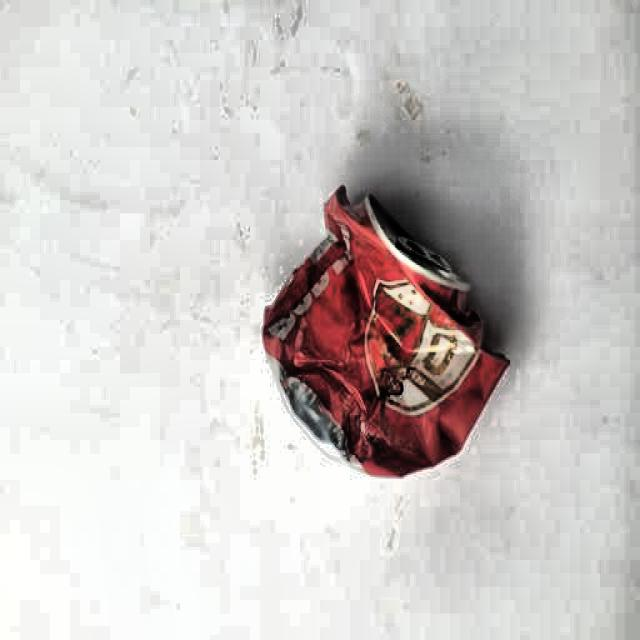metal: (262, 181, 516, 482)
